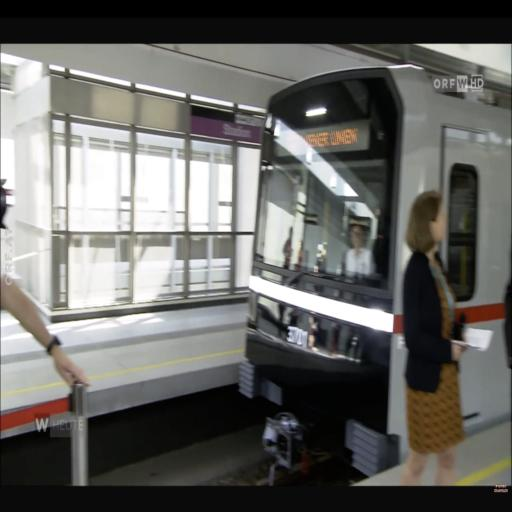X-Wagen: (242, 65, 512, 462)
